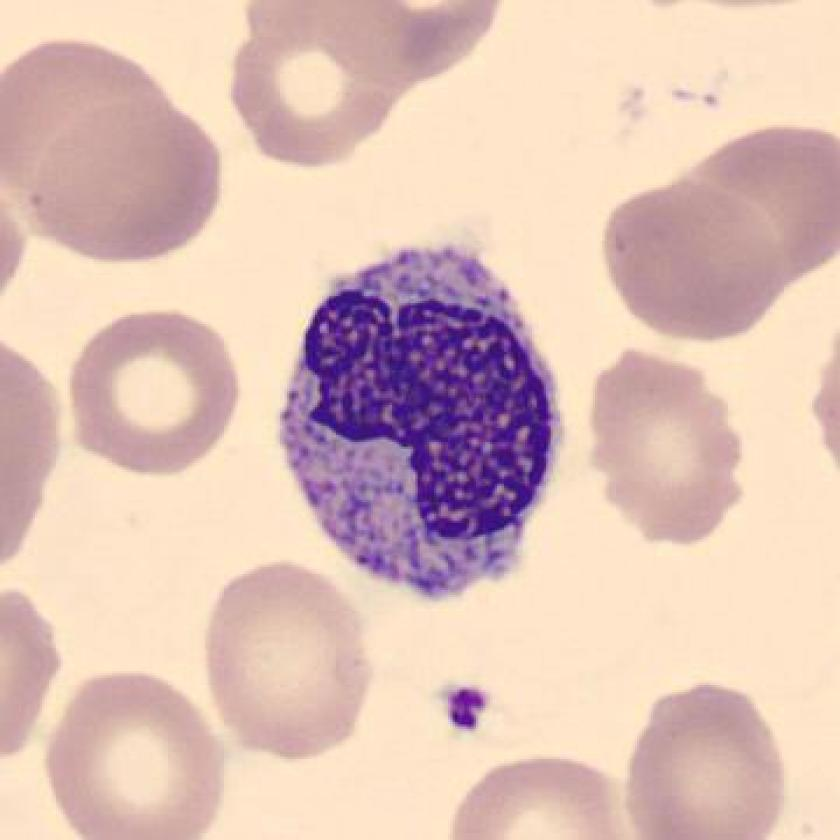monocyte: (265, 226, 591, 621)
